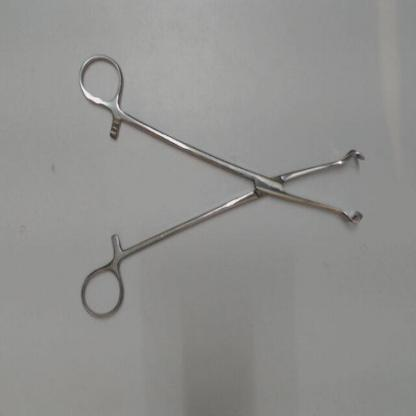8 Babcock Tissue Forceps: (74, 46, 371, 328)
